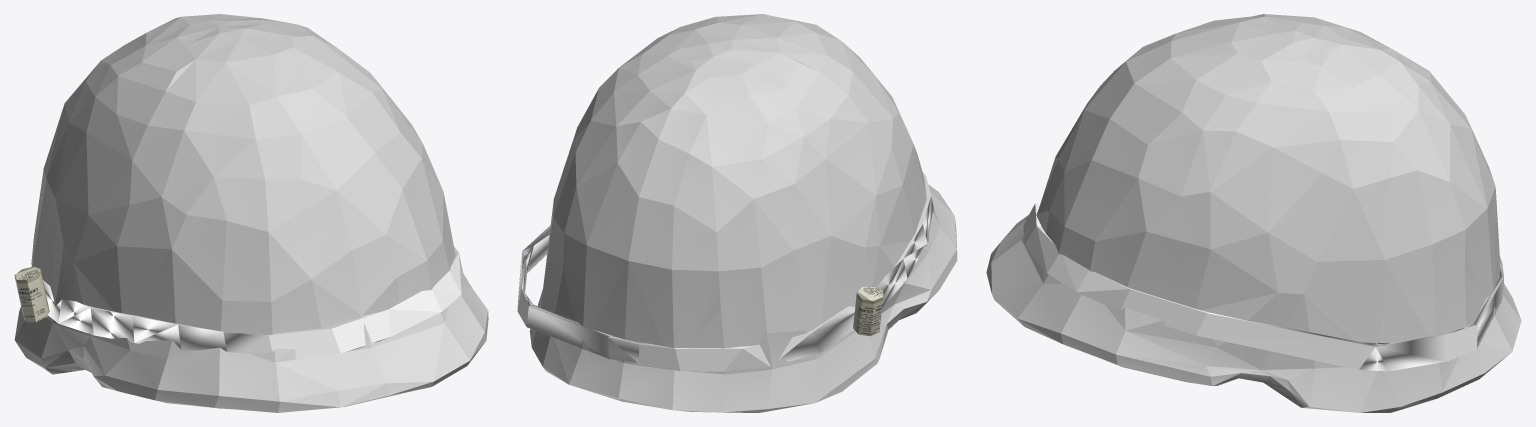
The model's file is m1_bugjuice.glb.
3 renders of one model, left to right at view 1: azimuth 30°, elevation 25°; view 2: azimuth 150°, elevation 25°; view 3: azimuth 270°, elevation 25°, orthographic. The views are drawn at different scales.
Parts seen in each view (by area): view 1: helmet_bugjuice_cover, helmet_bugjuice_band, helmet_bugjuice_bugjuice; view 2: helmet_bugjuice_cover, helmet_bugjuice_band, helmet_bugjuice_bugjuice; view 3: helmet_bugjuice_cover, helmet_bugjuice_band.
Boxes of the visible parts, left/top/right/bottom form: helmet_bugjuice_cover: left=14, top=14, right=488, bottom=412; helmet_bugjuice_band: left=31, top=246, right=464, bottom=359; helmet_bugjuice_bugjuice: left=14, top=266, right=49, bottom=322; helmet_bugjuice_cover: left=529, top=14, right=957, bottom=412; helmet_bugjuice_band: left=517, top=172, right=934, bottom=371; helmet_bugjuice_bugjuice: left=853, top=286, right=883, bottom=336; helmet_bugjuice_cover: left=986, top=14, right=1521, bottom=412; helmet_bugjuice_band: left=1023, top=195, right=1504, bottom=371.
Size of the model in its own units: 0.238 by 0.1917 by 0.3044.
Materials: 3 (1 with a texture image).
